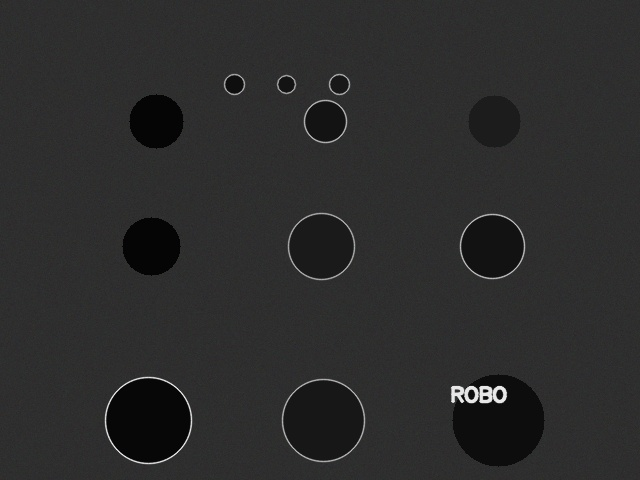hole: (452, 374, 544, 466), (105, 377, 191, 463), (282, 379, 364, 461), (288, 213, 354, 279), (460, 214, 524, 278), (122, 217, 180, 275), (129, 94, 183, 148), (468, 95, 520, 147), (304, 100, 346, 142), (224, 74, 244, 94), (329, 74, 349, 94), (277, 75, 295, 93)
